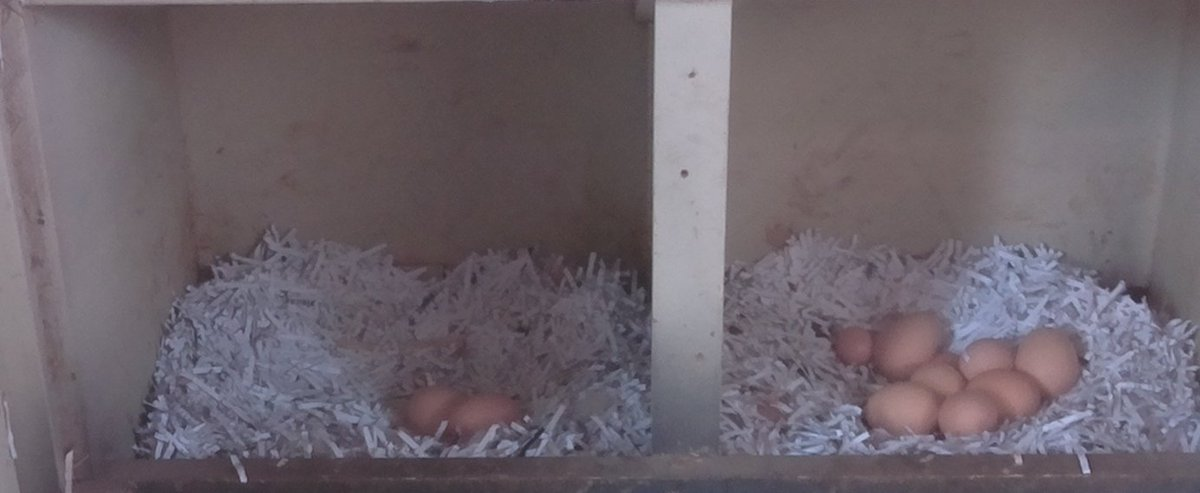egg: (859, 379, 942, 445), (1012, 324, 1084, 400), (872, 311, 947, 375), (967, 368, 1043, 423), (446, 390, 530, 439), (938, 388, 1001, 443), (403, 382, 467, 433), (827, 320, 880, 373), (956, 336, 1019, 379), (907, 359, 966, 400), (933, 347, 963, 374)
